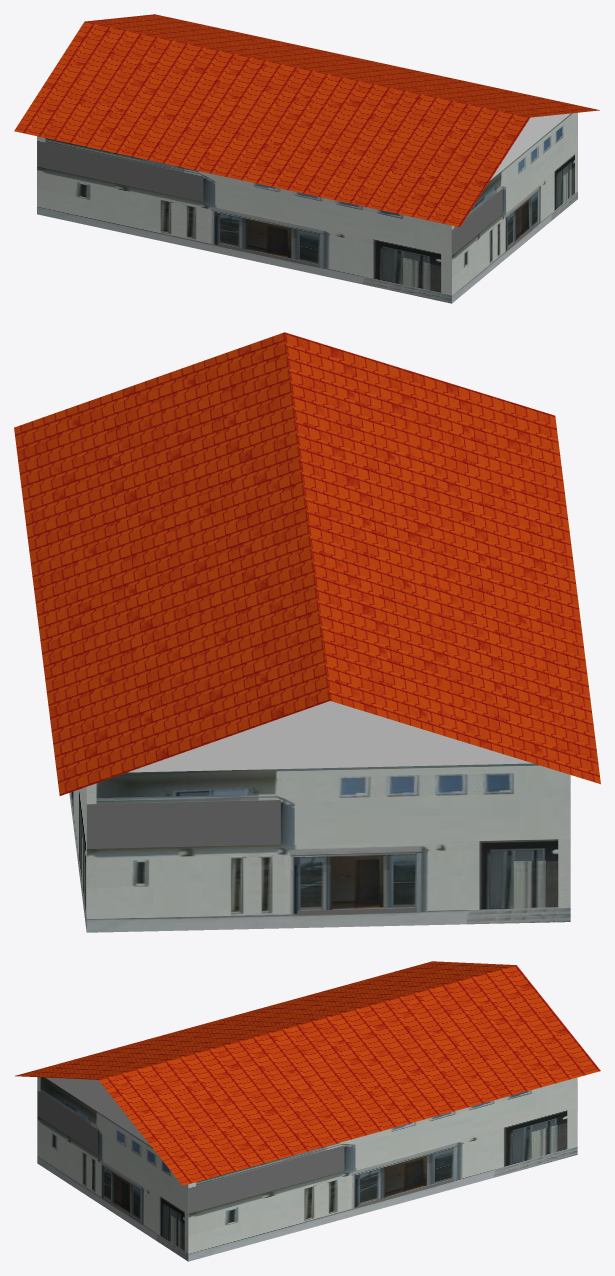
3 views of the same model, one above another, from view 1: azimuth 30°, elevation 25°; view 2: azimuth 150°, elevation 25°; view 3: azimuth 270°, elevation 25° (orthographic). The views are drawn at different scales.
Visible parts, largest first — view 1: CityEngineMaterial_12_m, CityEngineMaterial_11_m, CityEngineMaterial_3_m; view 2: CityEngineMaterial_12_m, CityEngineMaterial_11_m, CityEngineMaterial_3_m; view 3: CityEngineMaterial_12_m, CityEngineMaterial_11_m, CityEngineMaterial_3_m.
Boxes of the visible parts, x1,y1,x2,y2 form: CityEngineMaterial_12_m: (14,14,599,227); CityEngineMaterial_11_m: (37,112,577,303); CityEngineMaterial_3_m: (490,113,570,180); CityEngineMaterial_12_m: (14,332,600,795); CityEngineMaterial_11_m: (69,763,570,932); CityEngineMaterial_3_m: (128,701,532,772); CityEngineMaterial_12_m: (15,961,600,1185); CityEngineMaterial_11_m: (37,1077,577,1261); CityEngineMaterial_3_m: (46,1077,150,1145).
Size of the model in its own units: 30.55 by 8.67 by 33.75.
